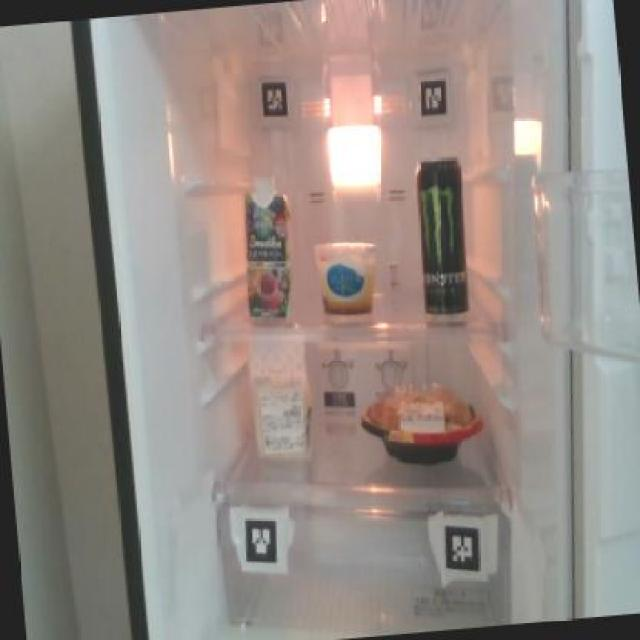bento: (358, 378, 488, 470)
energy_drink: (410, 153, 472, 321)
pudding: (311, 233, 383, 318)
sandwich: (239, 329, 321, 462)
smoothie: (235, 169, 300, 325)
